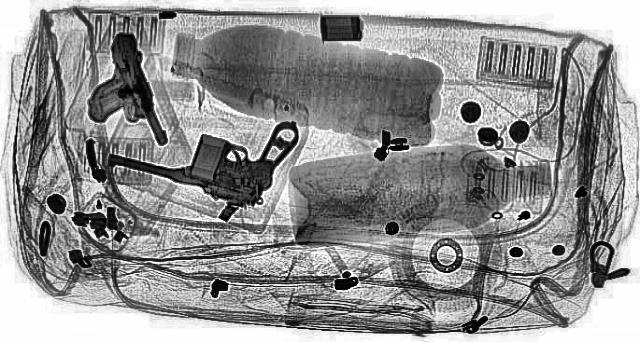Gun: (93, 91, 333, 209), (72, 31, 165, 147)
